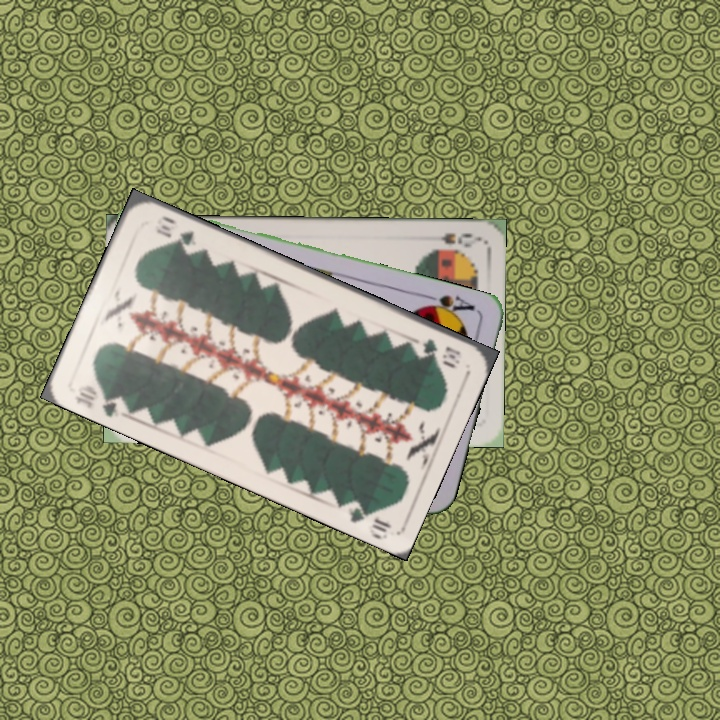G10: (71, 381, 129, 420), (418, 334, 463, 369)
SA: (419, 291, 477, 321)
SO: (437, 229, 479, 249)
